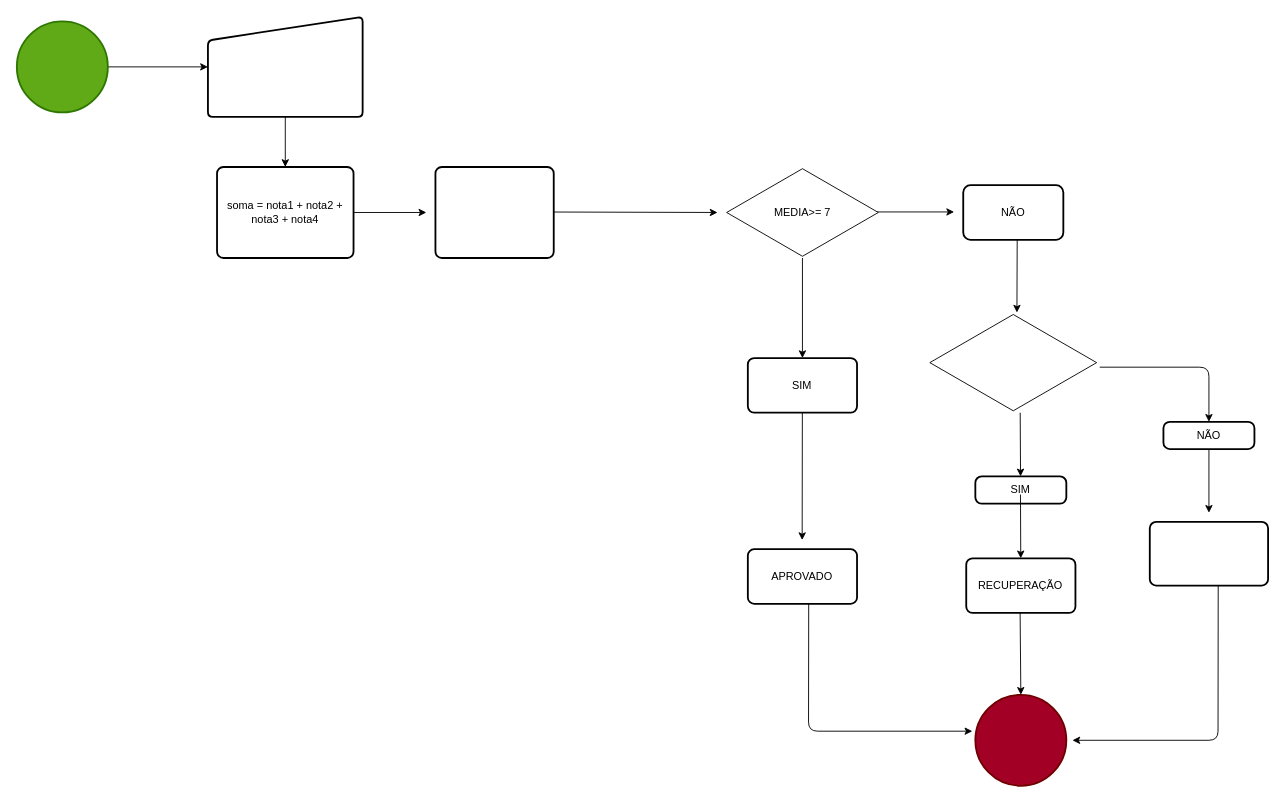
Some shapes in this 1284 by 802 pixel diagram are drawn without their labels. The centre of each missing label's shape, as x and y in pixels:
"media = soma / 4" goes at (494,212).
"MEDIA>=5" goes at (1013,362).
"nota1 = X nota2 = X nota3 = X nota4 = X" goes at (285,66).
"REPROVADO" goes at (1208,553).
